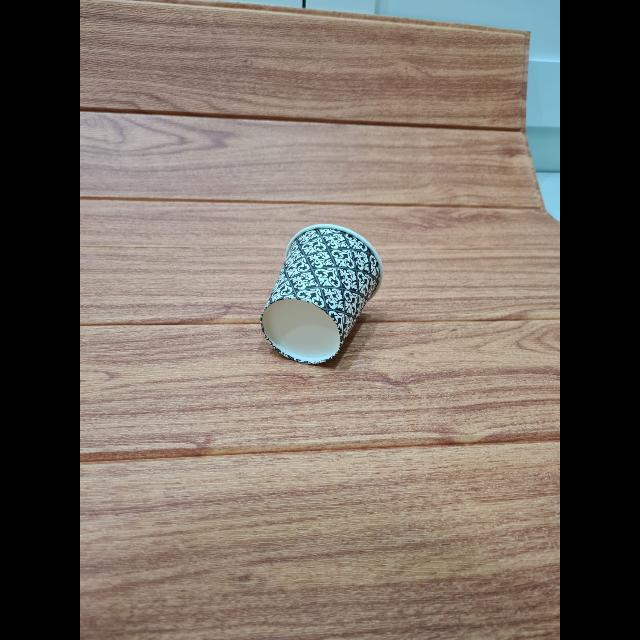trash: (256, 222, 388, 366)
